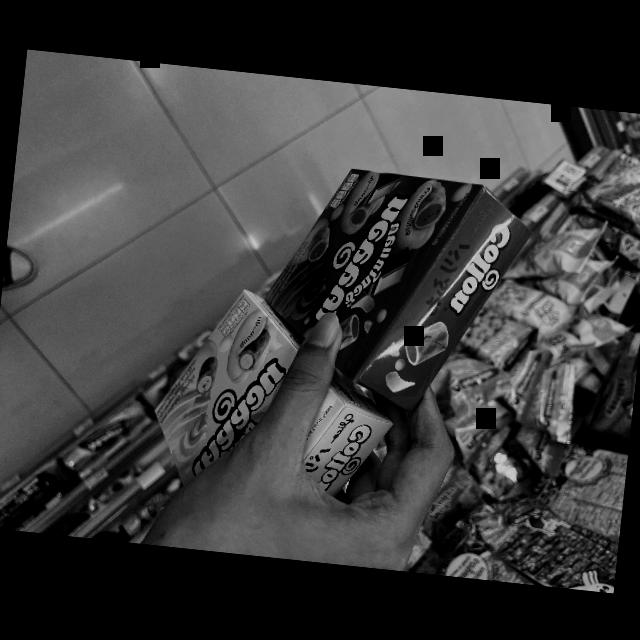cardboard_box: (258, 140, 533, 422), (120, 281, 404, 510)
